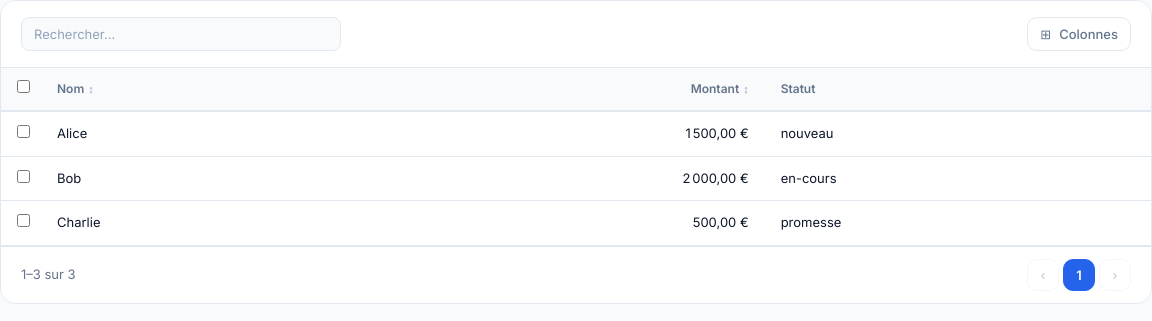
Test case: DataGridComponent › column visibility › should open column menu on button click
Click the button with class "grid__col-btn": (1079, 34) [1027,17,1131,51]
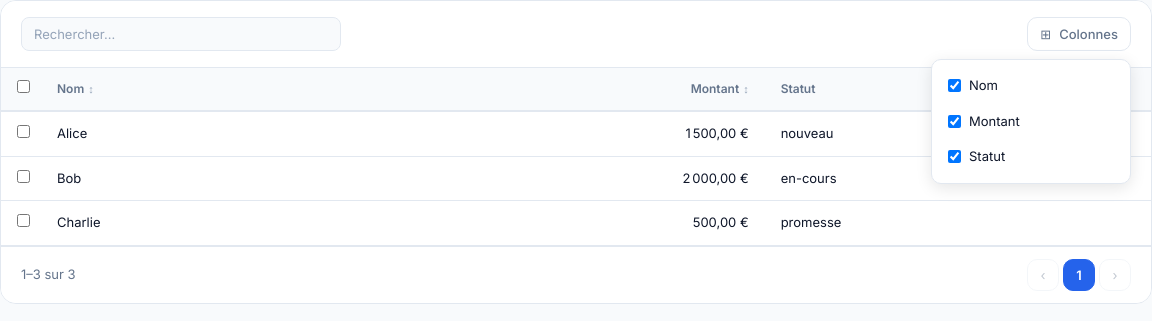
Check: the menu with class "grid__col-menu" is shown, box [931,59,1131,184]
